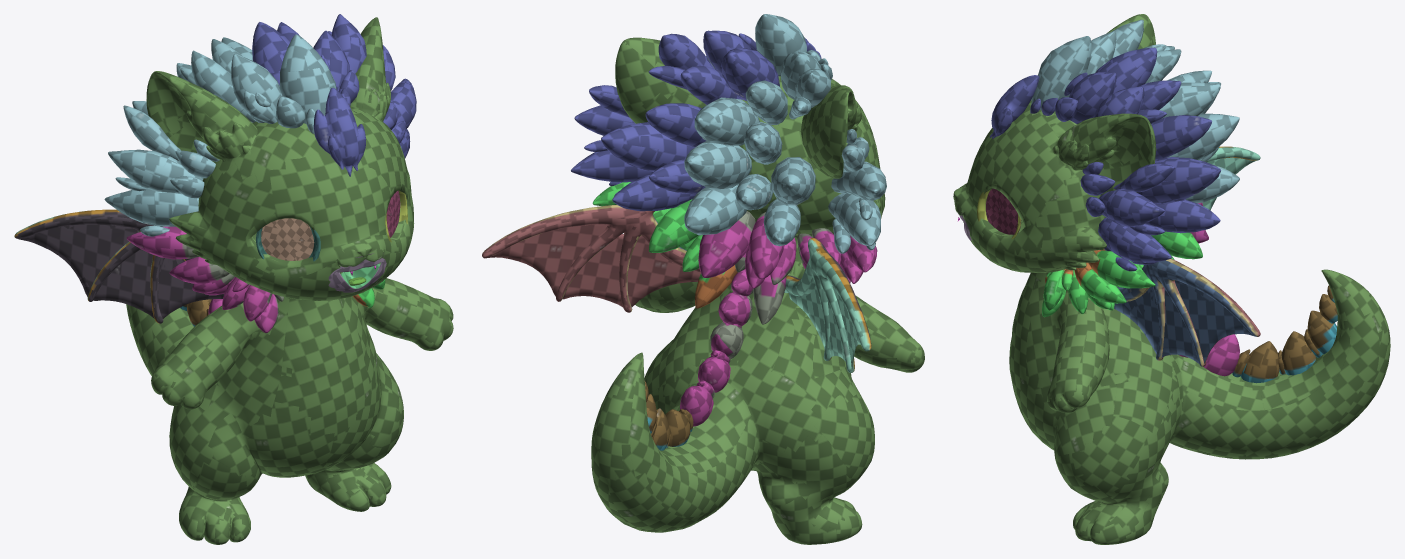
File: synthetic-return.fbx
The picture shows the model from 3 angles, left to right: view 1: azimuth 30°, elevation 25°; view 2: azimuth 150°, elevation 25°; view 3: azimuth 270°, elevation 25°; orthographic projection. The views are drawn at different scales.
Visible parts, largest first — view 1: Jill_Texture_Input_Neutral_v004; view 2: Jill_Texture_Input_Neutral_v004; view 3: Jill_Texture_Input_Neutral_v004.
Part boxes in pixels (x1,y1,x2,y2): Jill_Texture_Input_Neutral_v004: (14, 14, 453, 544); Jill_Texture_Input_Neutral_v004: (482, 14, 924, 544); Jill_Texture_Input_Neutral_v004: (953, 14, 1390, 544).
Bounding box in the file's own units: 82.18 × 99.95 × 84.72.
23 materials, 23 textured.
